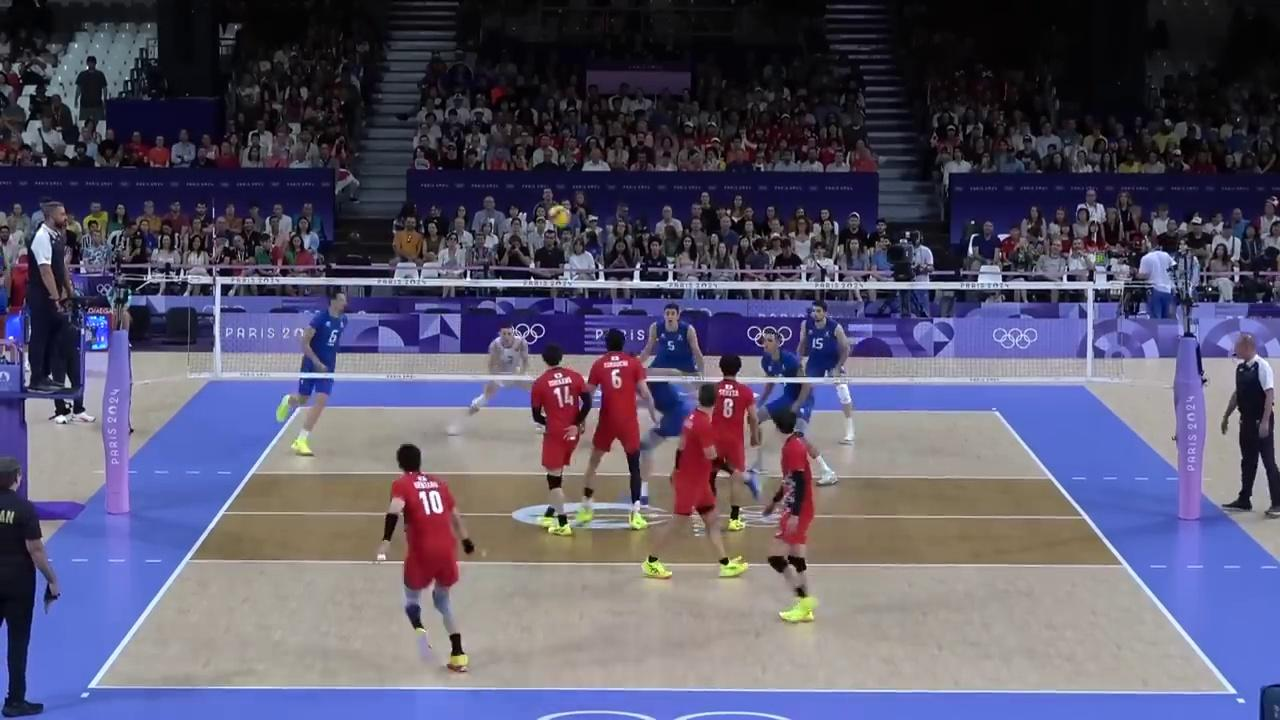ball: (549, 207, 569, 227)
